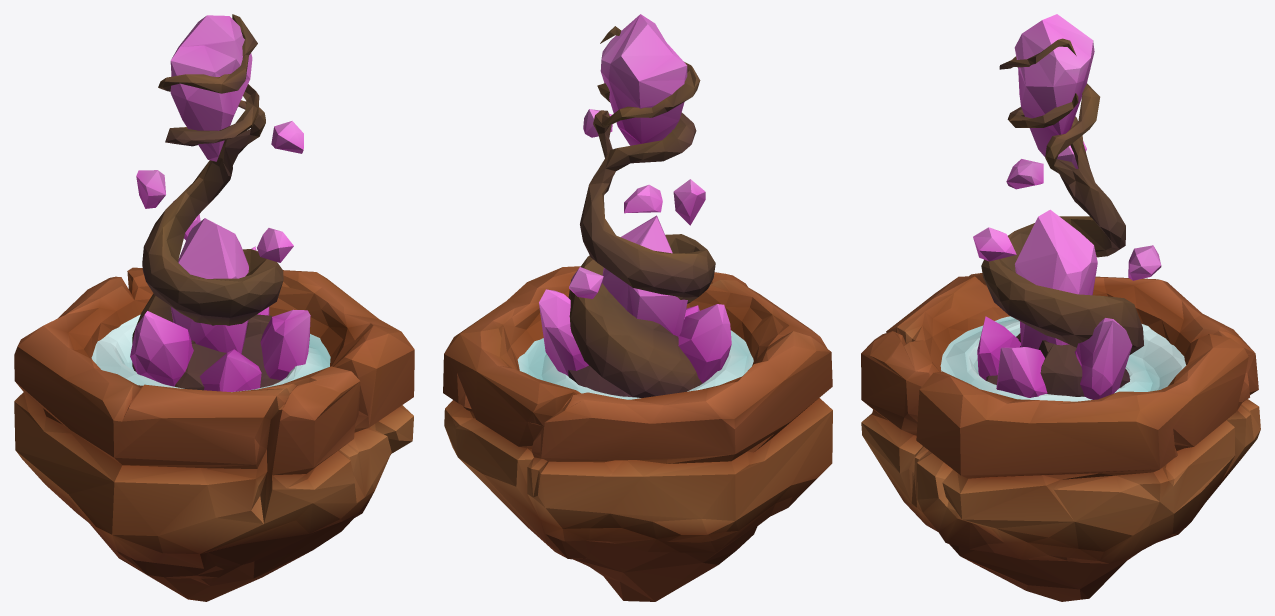
Rendered from TerraformedFertile.fbx.
3 views of the same model, side by side, from view 1: azimuth 30°, elevation 25°; view 2: azimuth 150°, elevation 25°; view 3: azimuth 270°, elevation 25° (orthographic). The views are drawn at different scales.
Visible parts, largest first — view 1: Merged_PM3D_Cylinder3D_8, Merged_PM3D_Cylinder3D_9, Merged_PM3D_Cylinder3D_11; view 2: Merged_PM3D_Cylinder3D_8, Merged_PM3D_Cylinder3D_9, Merged_PM3D_Cylinder3D_11; view 3: Merged_PM3D_Cylinder3D_8, Merged_PM3D_Cylinder3D_9, Merged_PM3D_Cylinder3D_11.
Boxes of the visible parts, left/top/right/bottom form: Merged_PM3D_Cylinder3D_8: left=14, top=14, right=414, bottom=601; Merged_PM3D_Cylinder3D_9: left=130, top=15, right=310, bottom=391; Merged_PM3D_Cylinder3D_11: left=91, top=314, right=330, bottom=392; Merged_PM3D_Cylinder3D_8: left=443, top=26, right=832, bottom=601; Merged_PM3D_Cylinder3D_9: left=539, top=14, right=731, bottom=383; Merged_PM3D_Cylinder3D_11: left=517, top=330, right=753, bottom=399; Merged_PM3D_Cylinder3D_8: left=861, top=38, right=1260, bottom=601; Merged_PM3D_Cylinder3D_9: left=973, top=14, right=1161, bottom=399; Merged_PM3D_Cylinder3D_11: left=940, top=316, right=1186, bottom=401.
Size of the model in its own units: 1.74 by 3.24 by 2.
